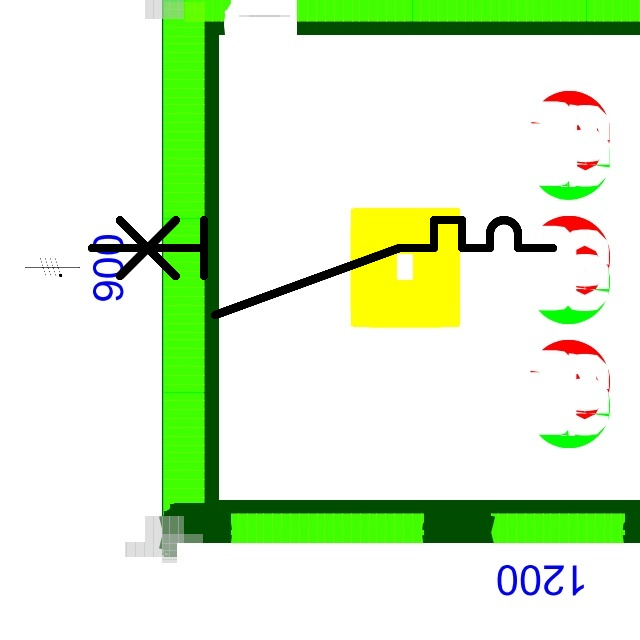interruptor_termomagnetico: (79, 208, 564, 326)
